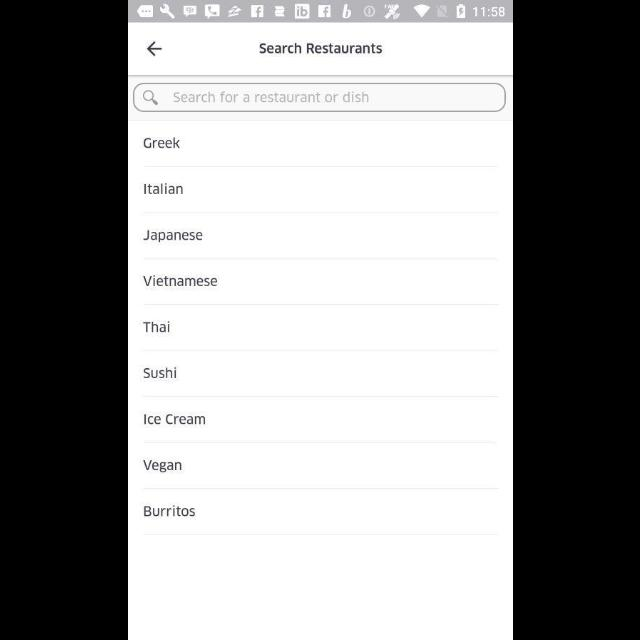icon: (142, 90, 158, 106), (146, 42, 162, 58)
input: (132, 84, 506, 112)
text: (172, 91, 368, 103), (258, 43, 382, 55), (143, 275, 217, 287), (144, 230, 202, 243), (143, 414, 205, 426), (143, 505, 195, 517), (142, 460, 182, 472), (143, 137, 181, 149), (144, 183, 182, 194), (142, 368, 176, 378), (142, 321, 170, 333)
toolbar: (128, 24, 512, 74)
uppertaskbar: (128, 1, 512, 23)
